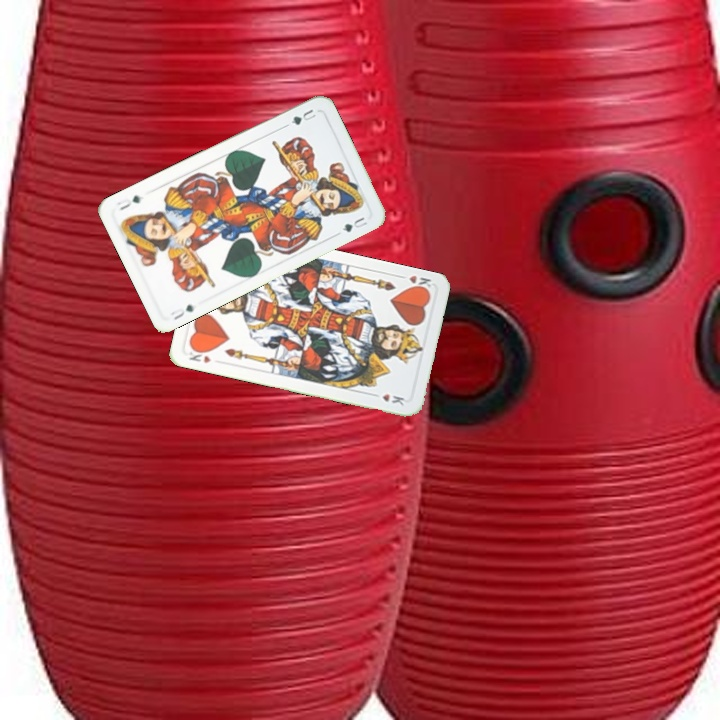GU: (281, 105, 319, 129), (167, 300, 197, 322)
HK: (405, 271, 434, 294), (185, 344, 213, 366)
